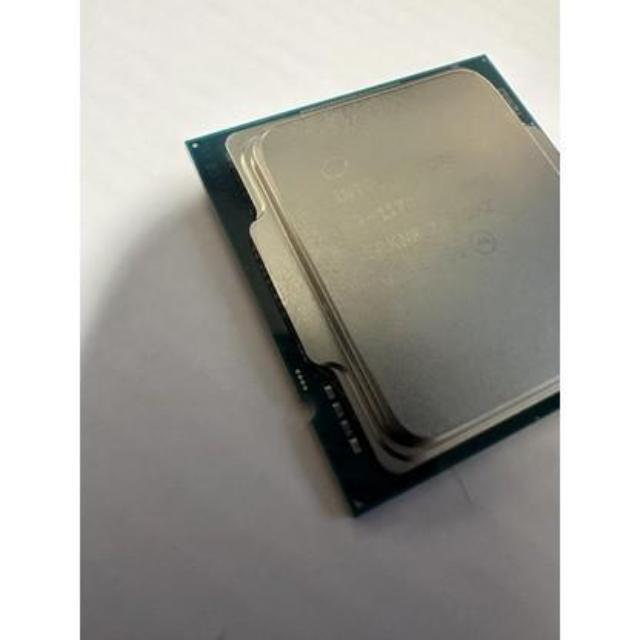CPU: (193, 54, 561, 494)
